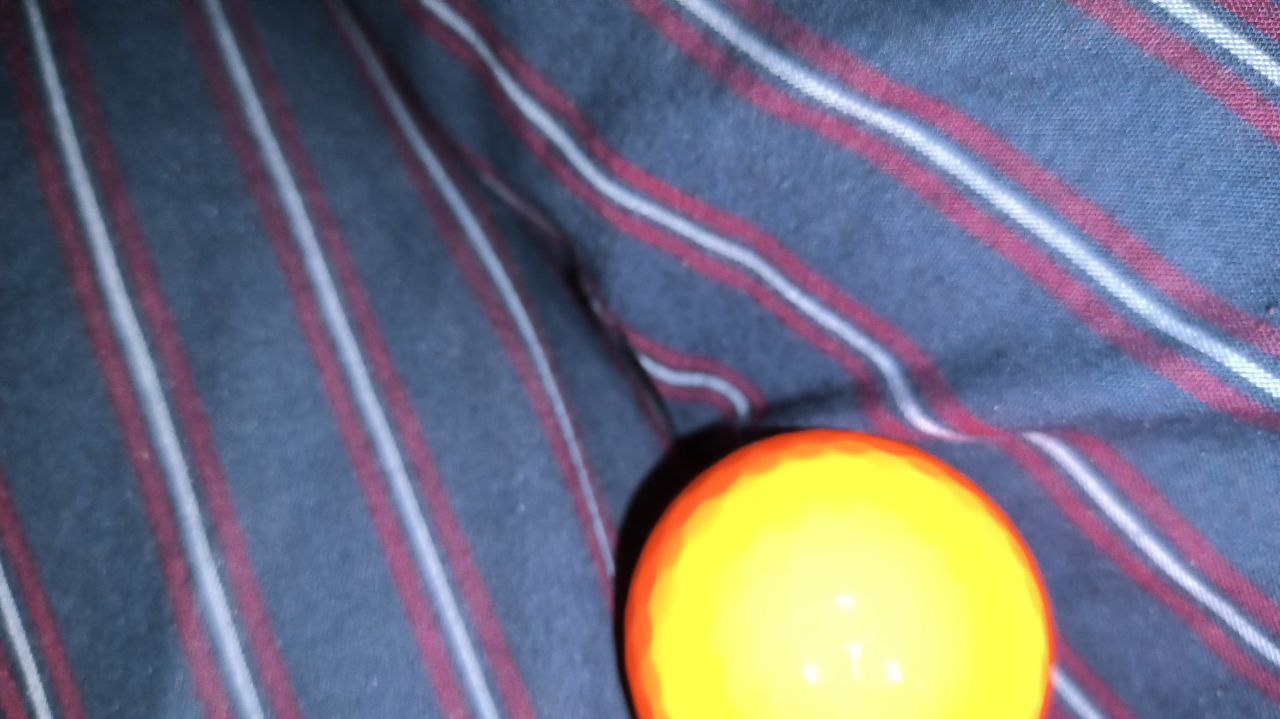orange_ball: (623, 427, 1055, 719)
